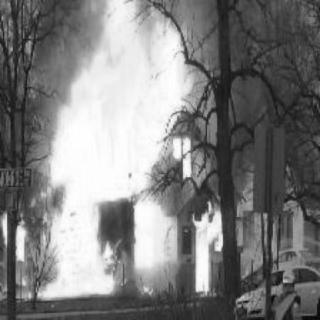Fire: (45, 6, 237, 296), (0, 195, 36, 269)
